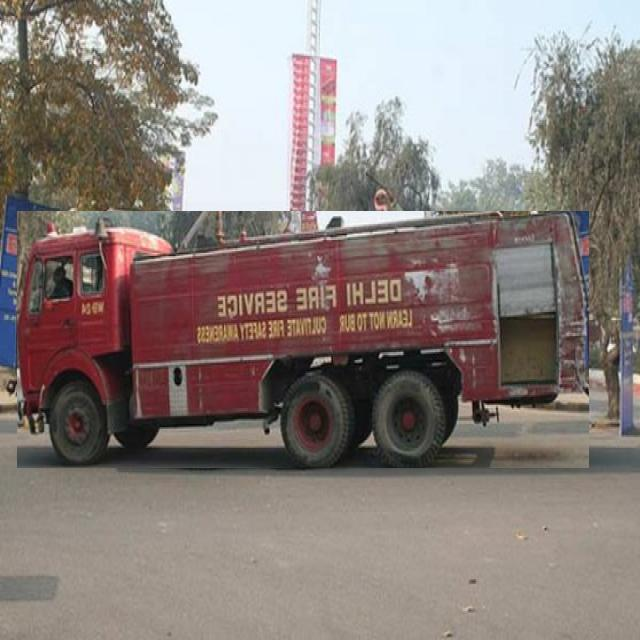emergency: (17, 211, 589, 468)
